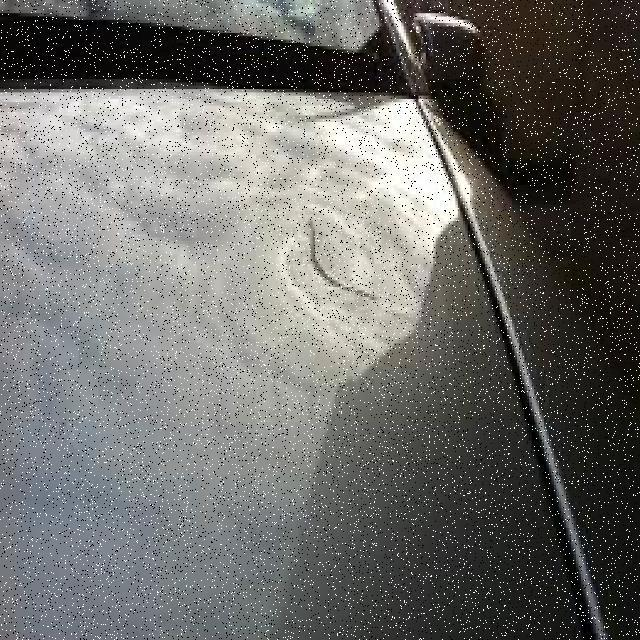bonnet-dent: (4, 56, 524, 574)
